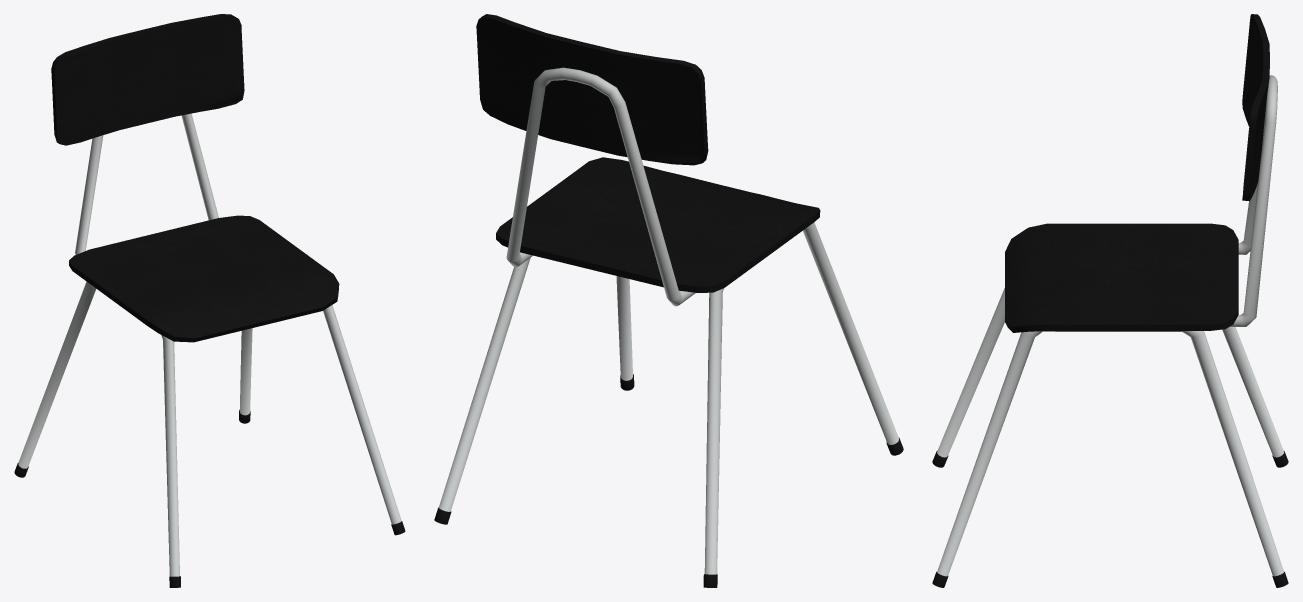
Rendered from cc0_-_chair_2.glb.
The picture shows the model from 3 angles, left to right: view 1: azimuth 30°, elevation 25°; view 2: azimuth 150°, elevation 25°; view 3: azimuth 270°, elevation 25°; orthographic projection. The views are drawn at different scales.
Visible parts, largest first — view 1: Chair2_Chair 2_0; view 2: Chair2_Chair 2_0; view 3: Chair2_Chair 2_0.
Part boxes in pixels (box(x1,y1,x2,y2)): Chair2_Chair 2_0: box(14, 14, 405, 587); Chair2_Chair 2_0: box(434, 14, 903, 587); Chair2_Chair 2_0: box(932, 14, 1288, 587).
Bounding box in the file's own units: 0.5125 × 0.8835 × 0.6094.
1 material, 1 textured.
